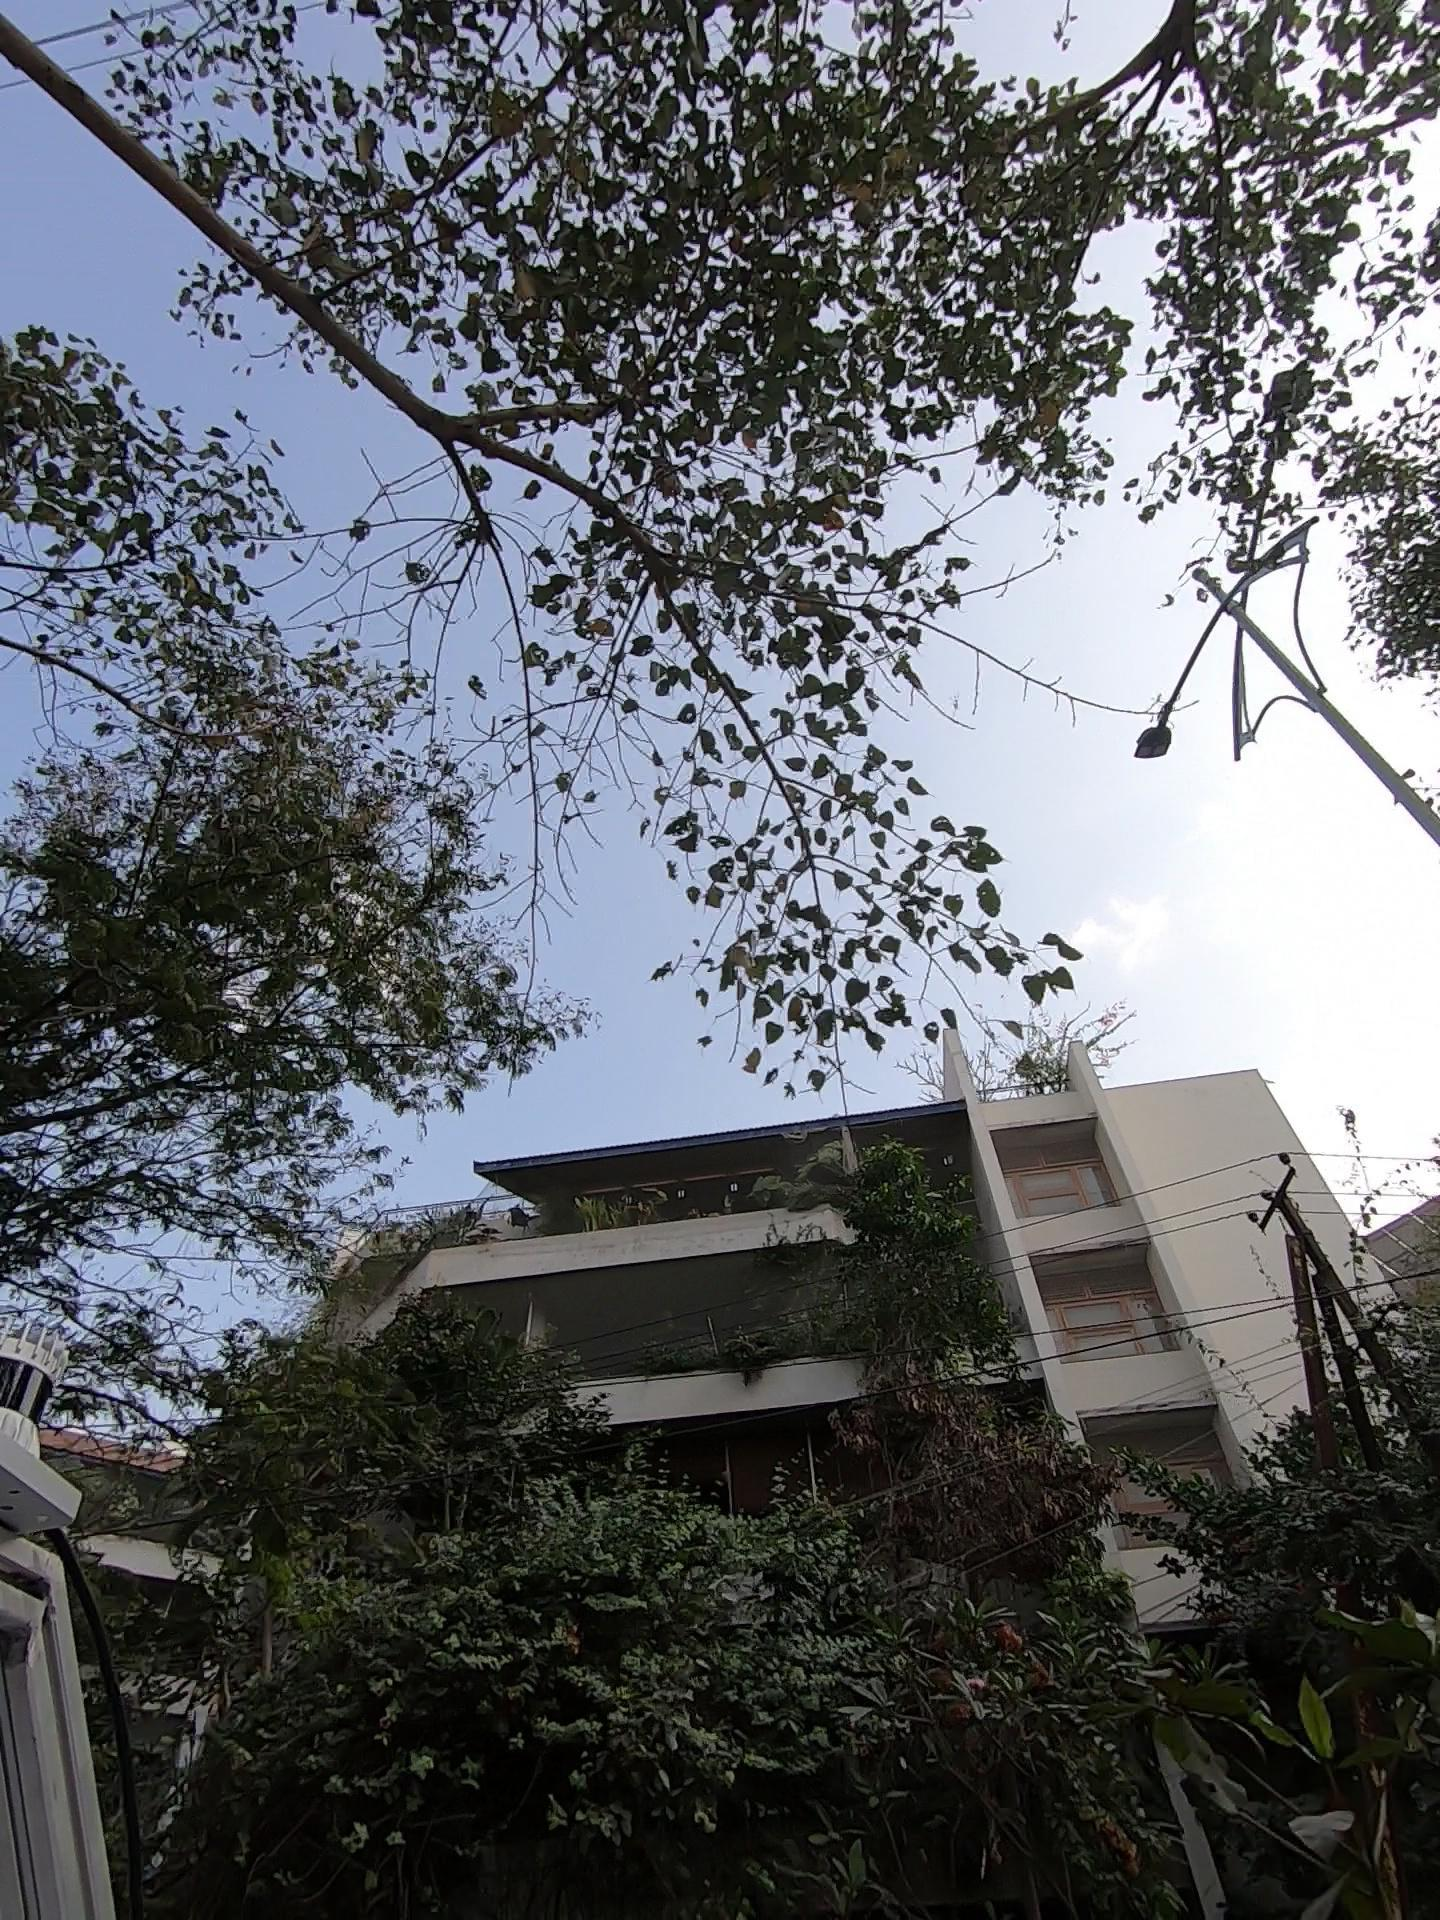off: (1045, 321, 1392, 807)
